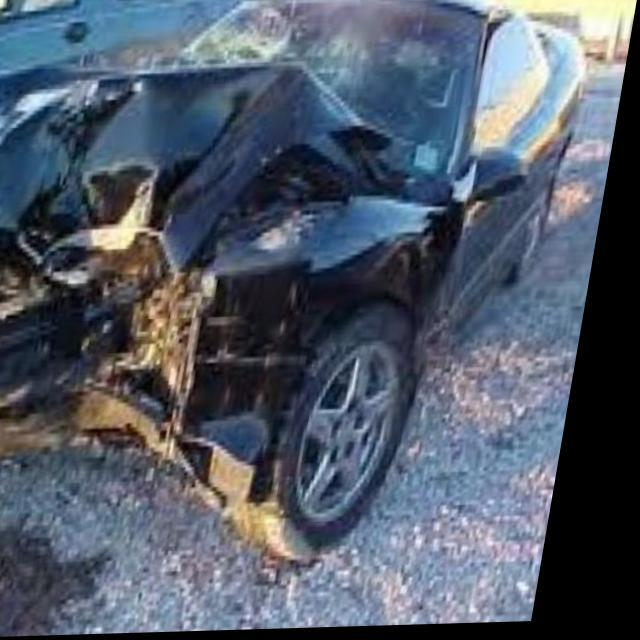crash: (0, 0, 470, 508)
